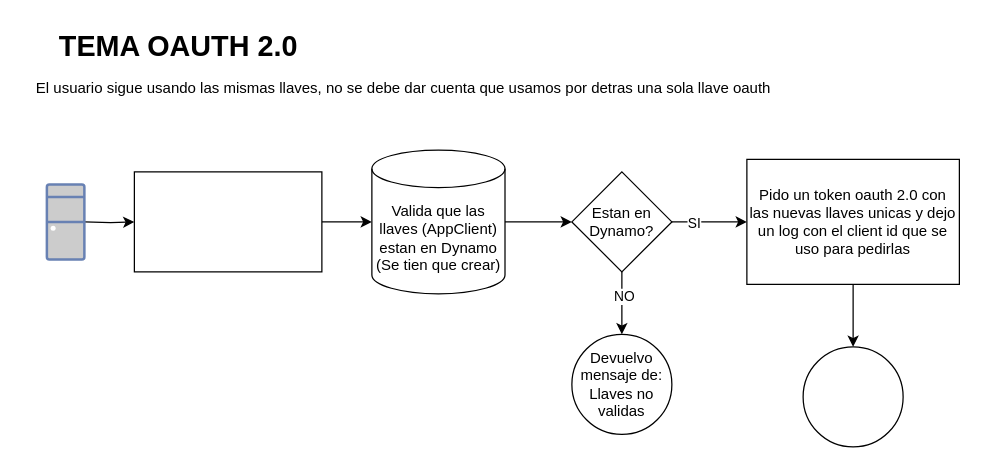
Image size: 981x469. Some labels were removed from this diagram. Each missing label, with the centre of its shape:
Devuelvo el token Oauth al cliente: pixel 852 396
Usa Lambda Oauth V2 para autenticar Esto pide AppClients de toda la vida: pixel 227 221
